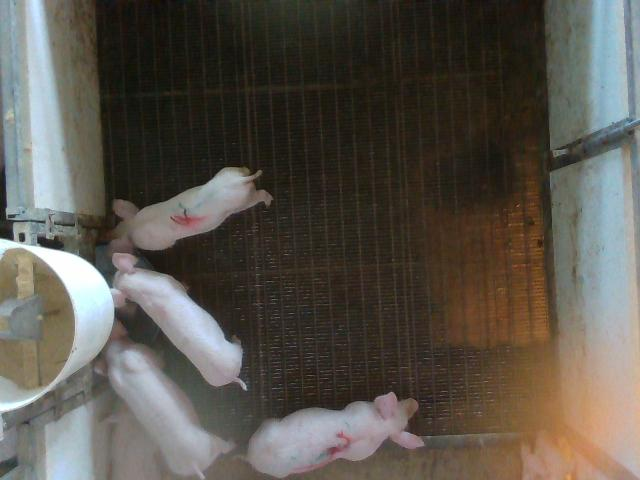pig-3: (246, 392, 423, 477)
pig-4: (109, 168, 272, 254)
